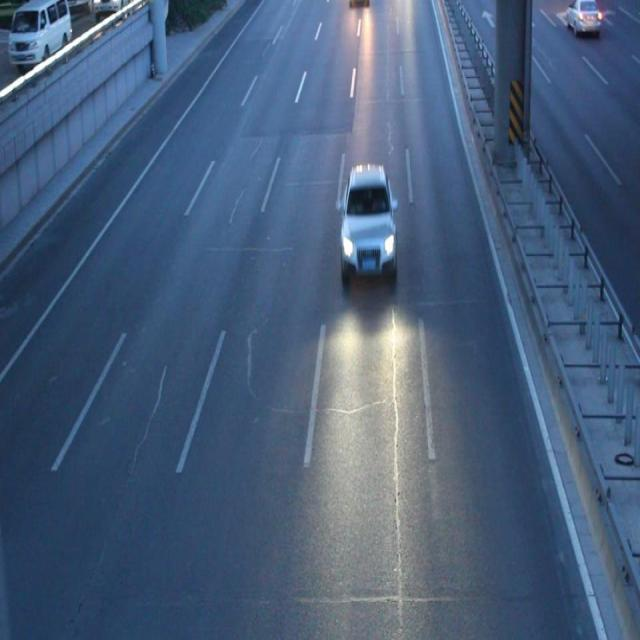car: (338, 166, 396, 282)
